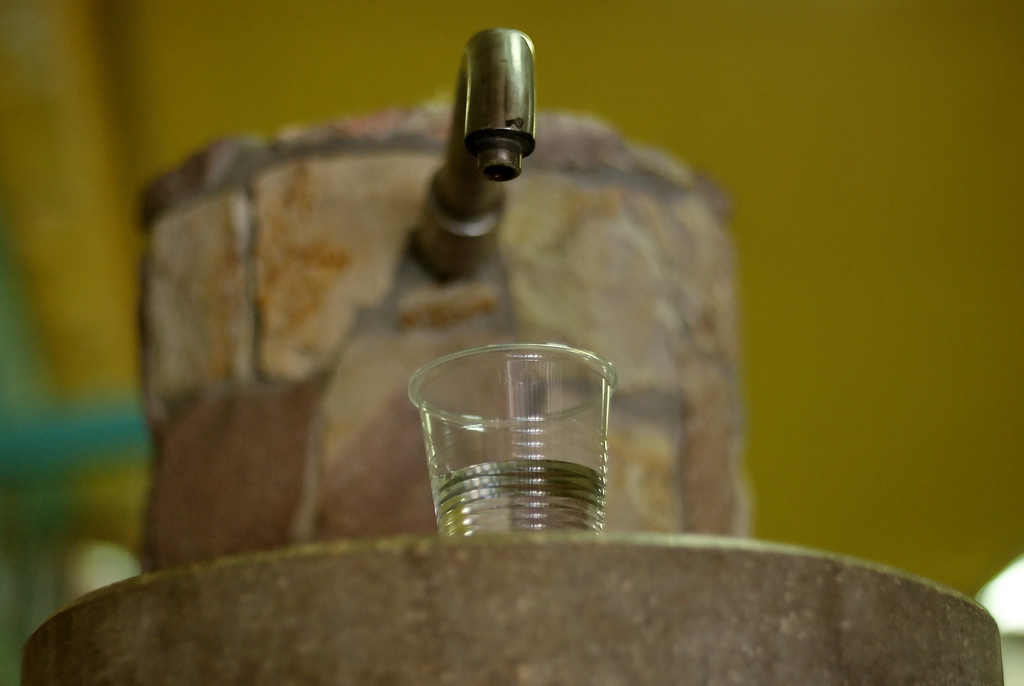glass of water: (404, 345, 624, 527)
